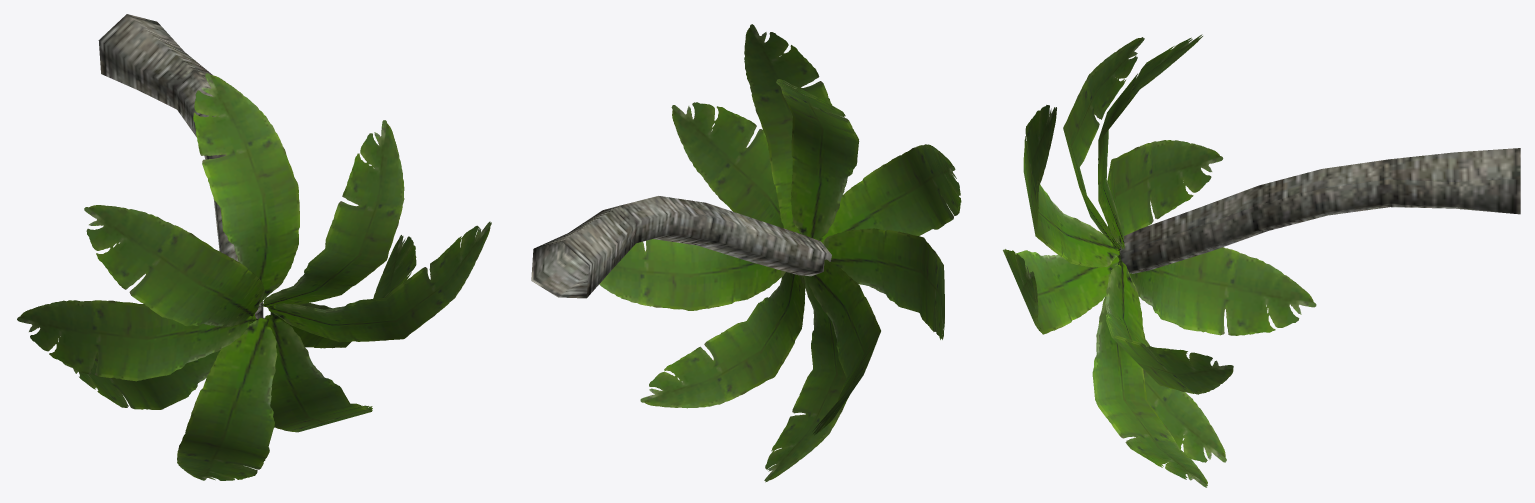
The model's file is palm_02.obj.
The picture shows the model from 3 angles, left to right: view 1: azimuth 30°, elevation 25°; view 2: azimuth 150°, elevation 25°; view 3: azimuth 270°, elevation 25°; orthographic projection. The views are drawn at different scales.
Parts seen in each view (by area): view 1: plant_pmat1; view 2: plant_pmat1; view 3: plant_pmat1.
Boxes of the visible parts, x1=… form: plant_pmat1: x1=17, y1=14, x2=491, y2=480; plant_pmat1: x1=531, y1=24, x2=961, y2=482; plant_pmat1: x1=1003, y1=34, x2=1520, y2=487.
Bounding box in the file's own units: 2.56 × 2.62 × 2.8.
